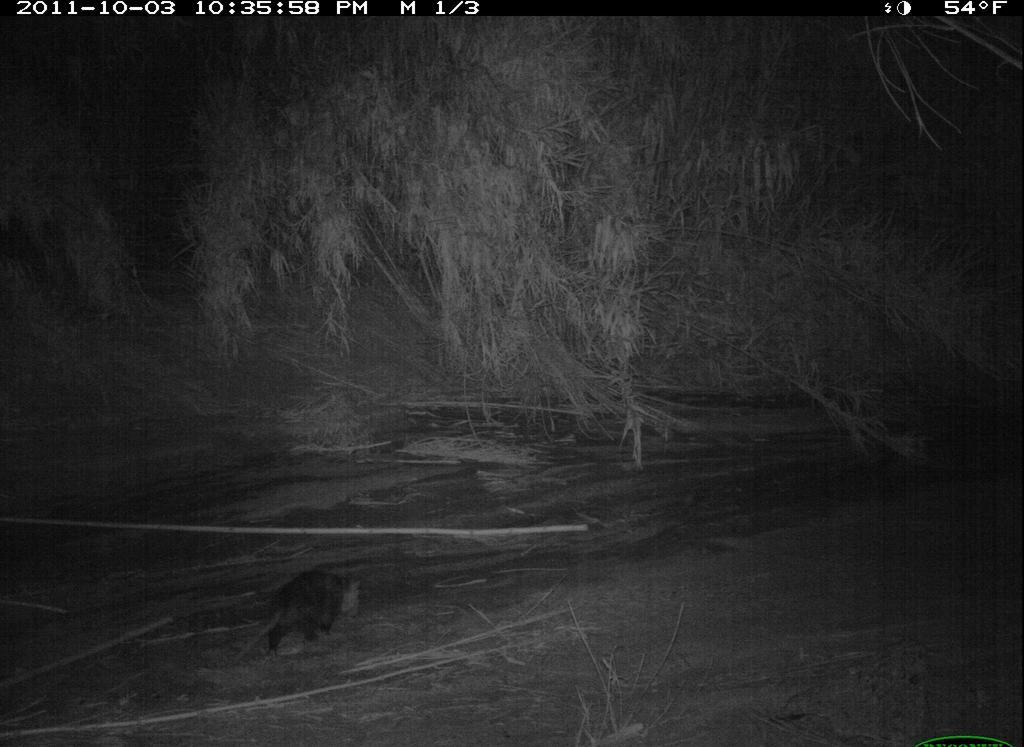opossum: (228, 561, 372, 671)
